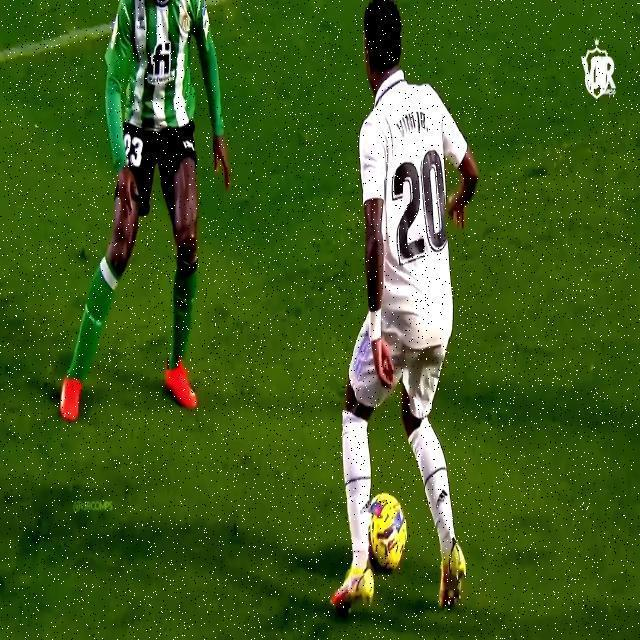ball: (371, 467, 427, 575)
player: (43, 0, 243, 467), (338, 1, 478, 601)
